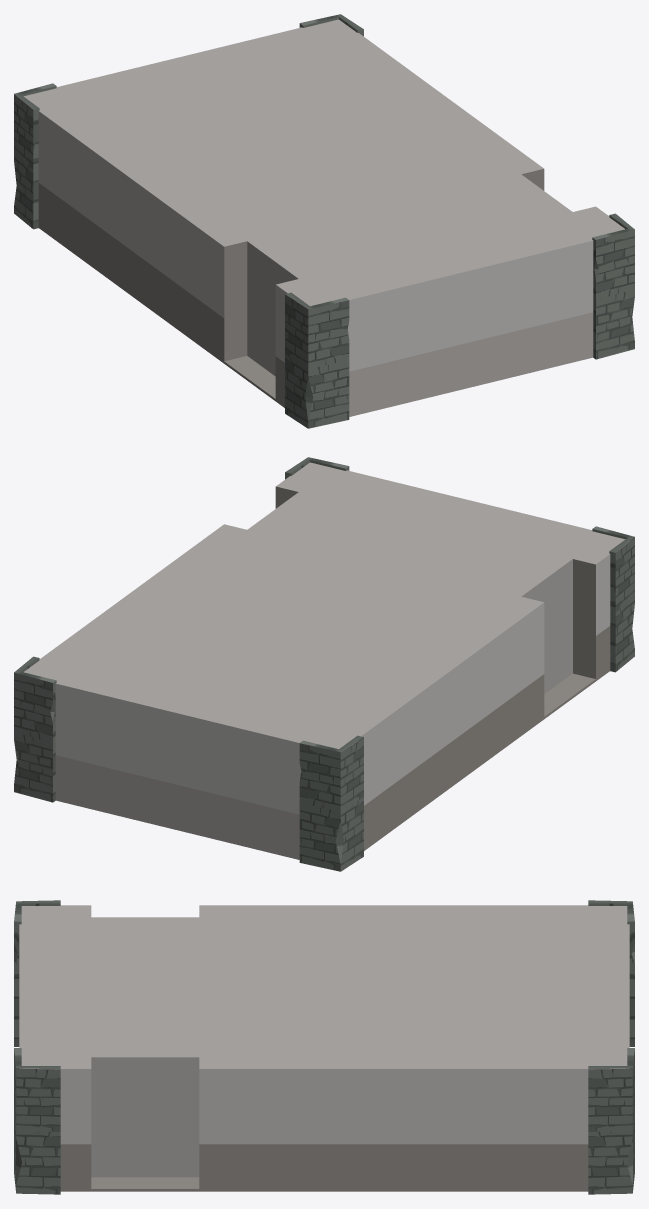
The model's file is SM_Env_Base_06.fbx.
The picture shows the model from 3 angles, top to bottom: view 1: azimuth 30°, elevation 25°; view 2: azimuth 150°, elevation 25°; view 3: azimuth 270°, elevation 25°; orthographic projection. The views are drawn at different scales.
Parts seen in each view (by area): view 1: SM_Env_Base_06; view 2: SM_Env_Base_06; view 3: SM_Env_Base_06.
Boxes of the visible parts, left/top/right/bottom form: SM_Env_Base_06: left=14, top=14, right=634, bottom=428; SM_Env_Base_06: left=14, top=457, right=634, bottom=871; SM_Env_Base_06: left=14, top=900, right=634, bottom=1194.
Bounding box in the file's own units: 740 × 256 × 1149.
Materials: 1 (1 with a texture image).
